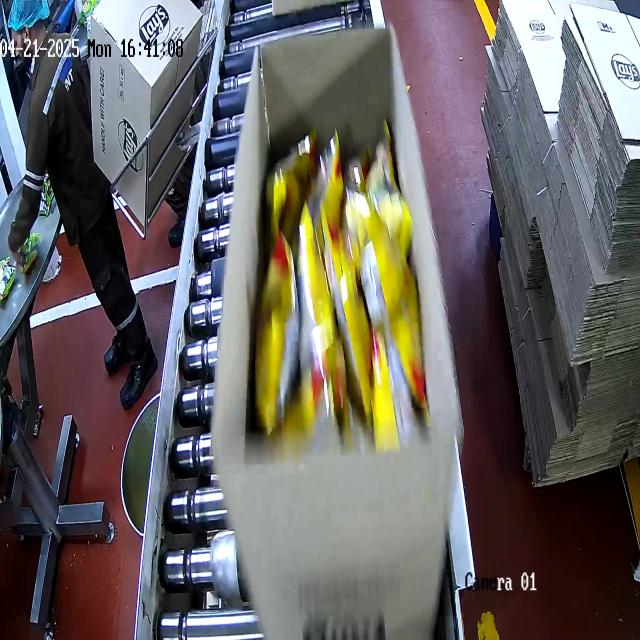SALTED: (255, 122, 422, 456)
